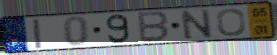0: (61, 15, 92, 48)
9: (105, 14, 132, 45)
B: (137, 10, 171, 44)
I: (30, 18, 44, 50)
N: (179, 8, 215, 41)
O: (215, 7, 248, 37)
